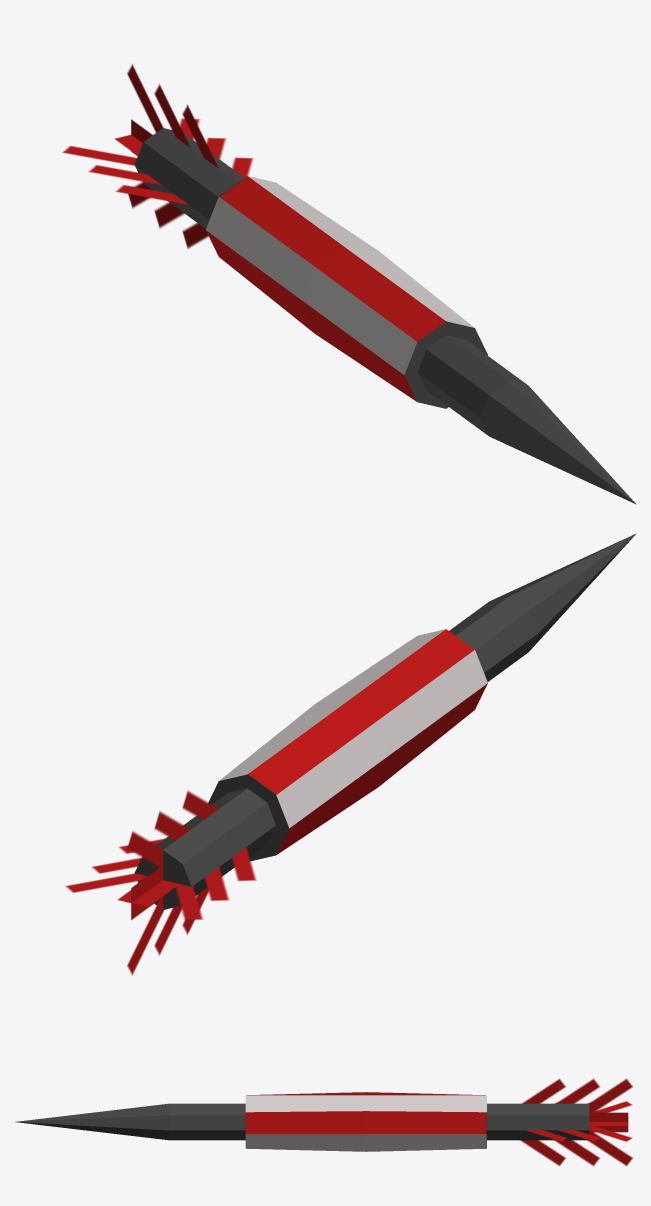
Rendered from Dart.glb.
3 views of the same model, one above another, from view 1: azimuth 30°, elevation 25°; view 2: azimuth 150°, elevation 25°; view 3: azimuth 270°, elevation 25° (orthographic). The views are drawn at different scales.
Visible parts, largest first — view 1: Cube; view 2: Cube; view 3: Cube.
Boxes of the visible parts, <box> form: Cube: <box>62,64,636,504</box>; Cube: <box>65,533,636,975</box>; Cube: <box>15,1078,632,1166</box>.
Size of the model in its own units: 1.05 by 1.05 by 4.24.
Materials: 1 (1 with a texture image).
